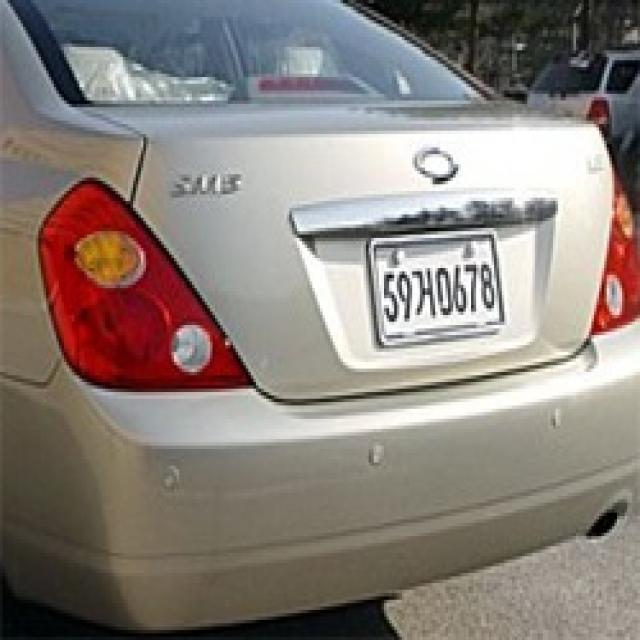car: (363, 213, 511, 356)
